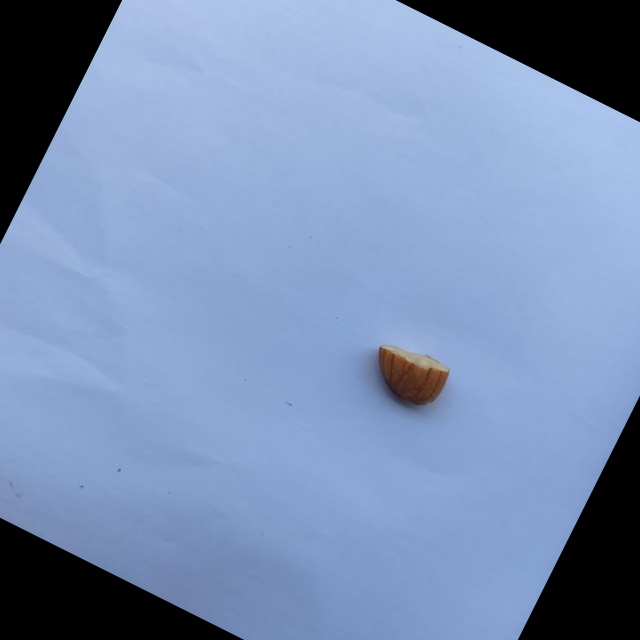grade4: (352, 327, 462, 424)
